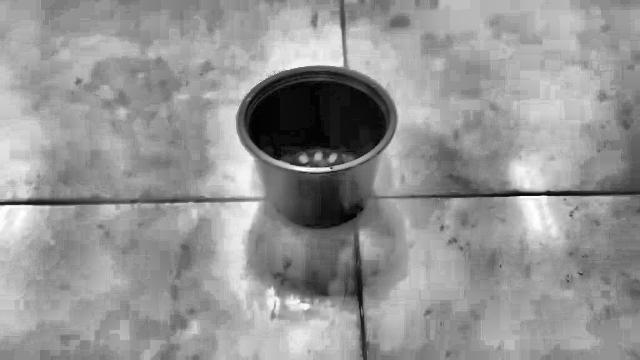pot: (238, 66, 396, 228)
